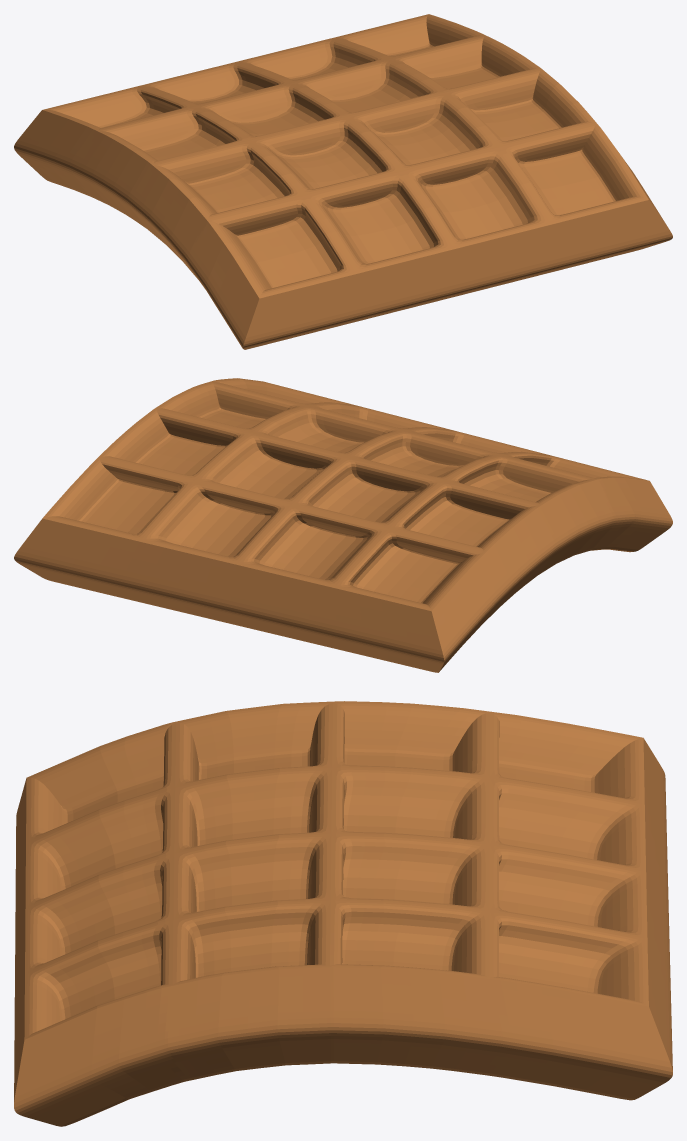
File: Ponte.fbx
3 views of the same model, one above another, from view 1: azimuth 30°, elevation 25°; view 2: azimuth 150°, elevation 25°; view 3: azimuth 270°, elevation 25° (orthographic). The views are drawn at different scales.
Visible parts, largest first — view 1: Cube; view 2: Cube; view 3: Cube.
Boxes of the visible parts, left/top/right/bottom form: Cube: left=14, top=14, right=672, bottom=349; Cube: left=14, top=378, right=672, bottom=672; Cube: left=14, top=701, right=672, bottom=1126.
Size of the model in its own units: 443 by 116 by 416.
